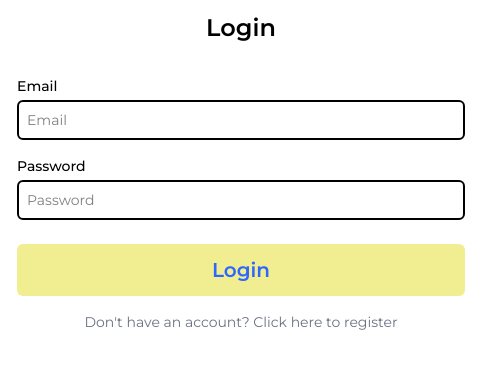
it: LoginView › should display error messages when the form is submitted with empty fields
Click the button "Login" at (241,270), box x1=17 y1=244 x2=465 y2=296
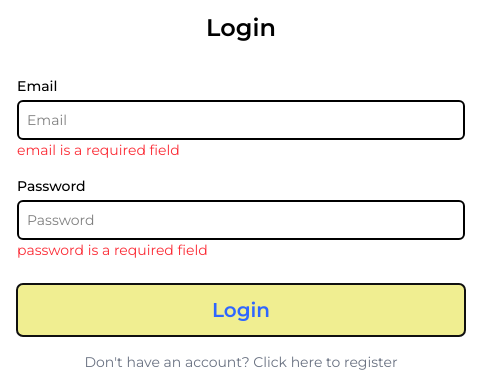
Check: the text "email is a required field" is shown, box x1=17 y1=141 x2=180 y2=159
Check: the text "password is a required field" is shown, box x1=17 y1=241 x2=208 y2=259
